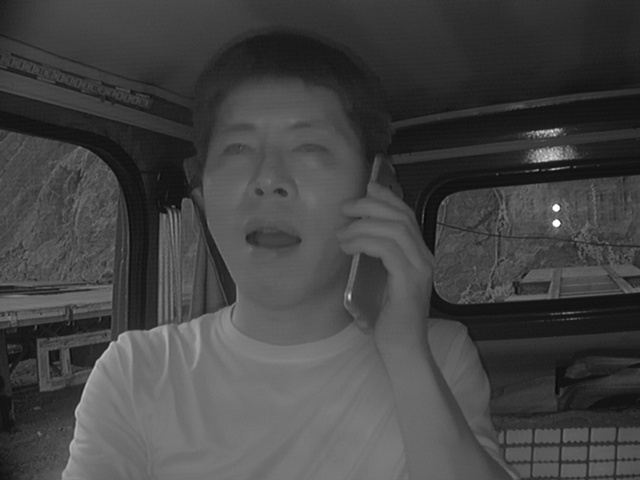hand: (339, 186, 437, 348)
